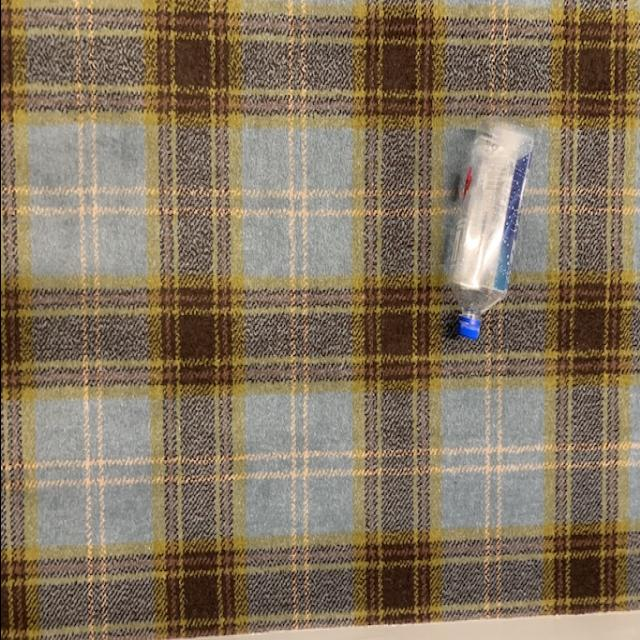PET: (441, 121, 535, 342)
